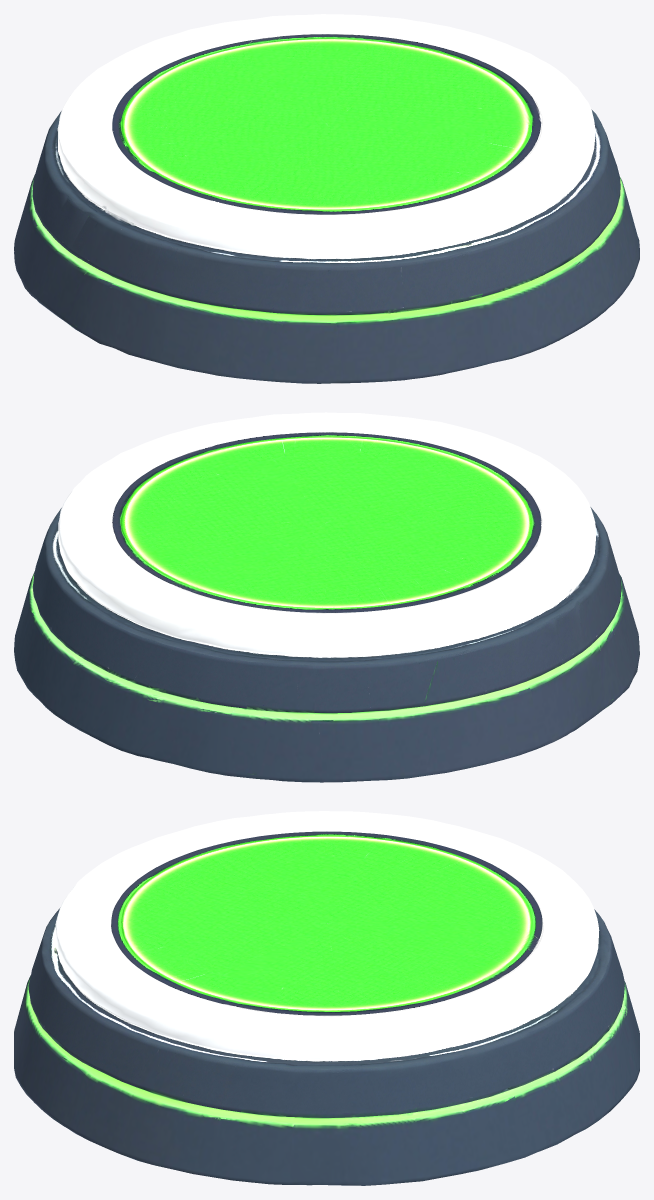
File: finish.glb
3 renders of one model, top to bottom at view 1: azimuth 30°, elevation 25°; view 2: azimuth 150°, elevation 25°; view 3: azimuth 270°, elevation 25°, orthographic.
Parts seen in each view (by area): view 1: Meshy finish beacon platform; view 2: Meshy finish beacon platform; view 3: Meshy finish beacon platform.
Boxes of the visible parts, box(x1,y1,x2,y2) form: Meshy finish beacon platform: box(14, 14, 639, 383); Meshy finish beacon platform: box(14, 412, 639, 782); Meshy finish beacon platform: box(14, 811, 639, 1185).
Bounding box in the file's own units: 3.18 × 0.7333 × 3.18.
Materials: 1 (1 with a texture image).
